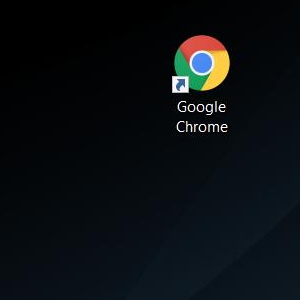chrome: (171, 34, 230, 94)
